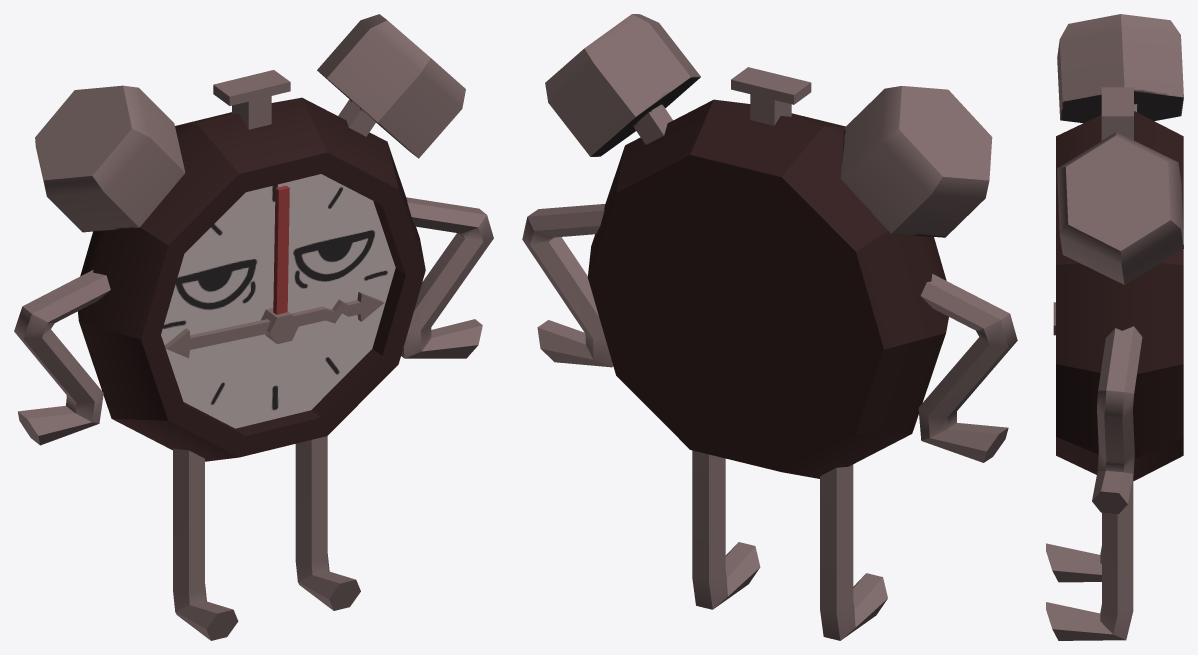
File: C_Locke_Enemy_Model_2.fbx
The picture shows the model from 3 angles, left to right: view 1: azimuth 30°, elevation 25°; view 2: azimuth 150°, elevation 25°; view 3: azimuth 270°, elevation 25°; orthographic projection. The views are drawn at different scales.
Visible parts, largest first — view 1: C_Locke, Bell2, Bell1, Arm1, Arm2, Leggy1, Leggy2, time_Pushy, Longest_Clock_Arm, Long_Clock_Arm, Short_Clock_Arm, snoot (+1 smaller); view 2: C_Locke, Bell2, Bell1, Arm2, Arm1, Leggy1, Leggy2, time_Pushy, Bellpiece; view 3: C_Locke, Bell1, Bell2, Arm1, Leggy2, Leggy1, time_Pushy.
Boxes of the visible parts, x1,y1,x2,y2 form: C_Locke: (78, 97, 425, 461); Bell2: (35, 85, 185, 232); Bell1: (317, 14, 465, 158); Arm1: (401, 197, 493, 358); Arm2: (14, 270, 110, 445); Leggy1: (173, 448, 238, 640); Leggy2: (295, 436, 360, 610); time_Pushy: (213, 70, 290, 129); Longest_Clock_Arm: (273, 185, 289, 314); Long_Clock_Arm: (165, 319, 270, 358); Short_Clock_Arm: (291, 292, 383, 326); snoot: (261, 308, 298, 344); C_Locke: (587, 99, 948, 478); Bell2: (840, 86, 992, 237); Bell1: (545, 14, 700, 156); Arm2: (918, 274, 1017, 462); Arm1: (522, 204, 613, 367); Leggy1: (820, 464, 887, 640); Leggy2: (692, 450, 760, 609); time_Pushy: (731, 67, 811, 125); Bellpiece: (633, 104, 673, 144); C_Locke: (1056, 111, 1183, 481); Bell1: (1057, 132, 1183, 284); Bell2: (1057, 14, 1183, 123); Arm1: (1092, 326, 1142, 513); Leggy2: (1046, 477, 1133, 640); Leggy1: (1046, 543, 1101, 582); time_Pushy: (1101, 87, 1133, 140).
Bounding box in the file's own units: 5.17 × 5.78 × 1.34.
